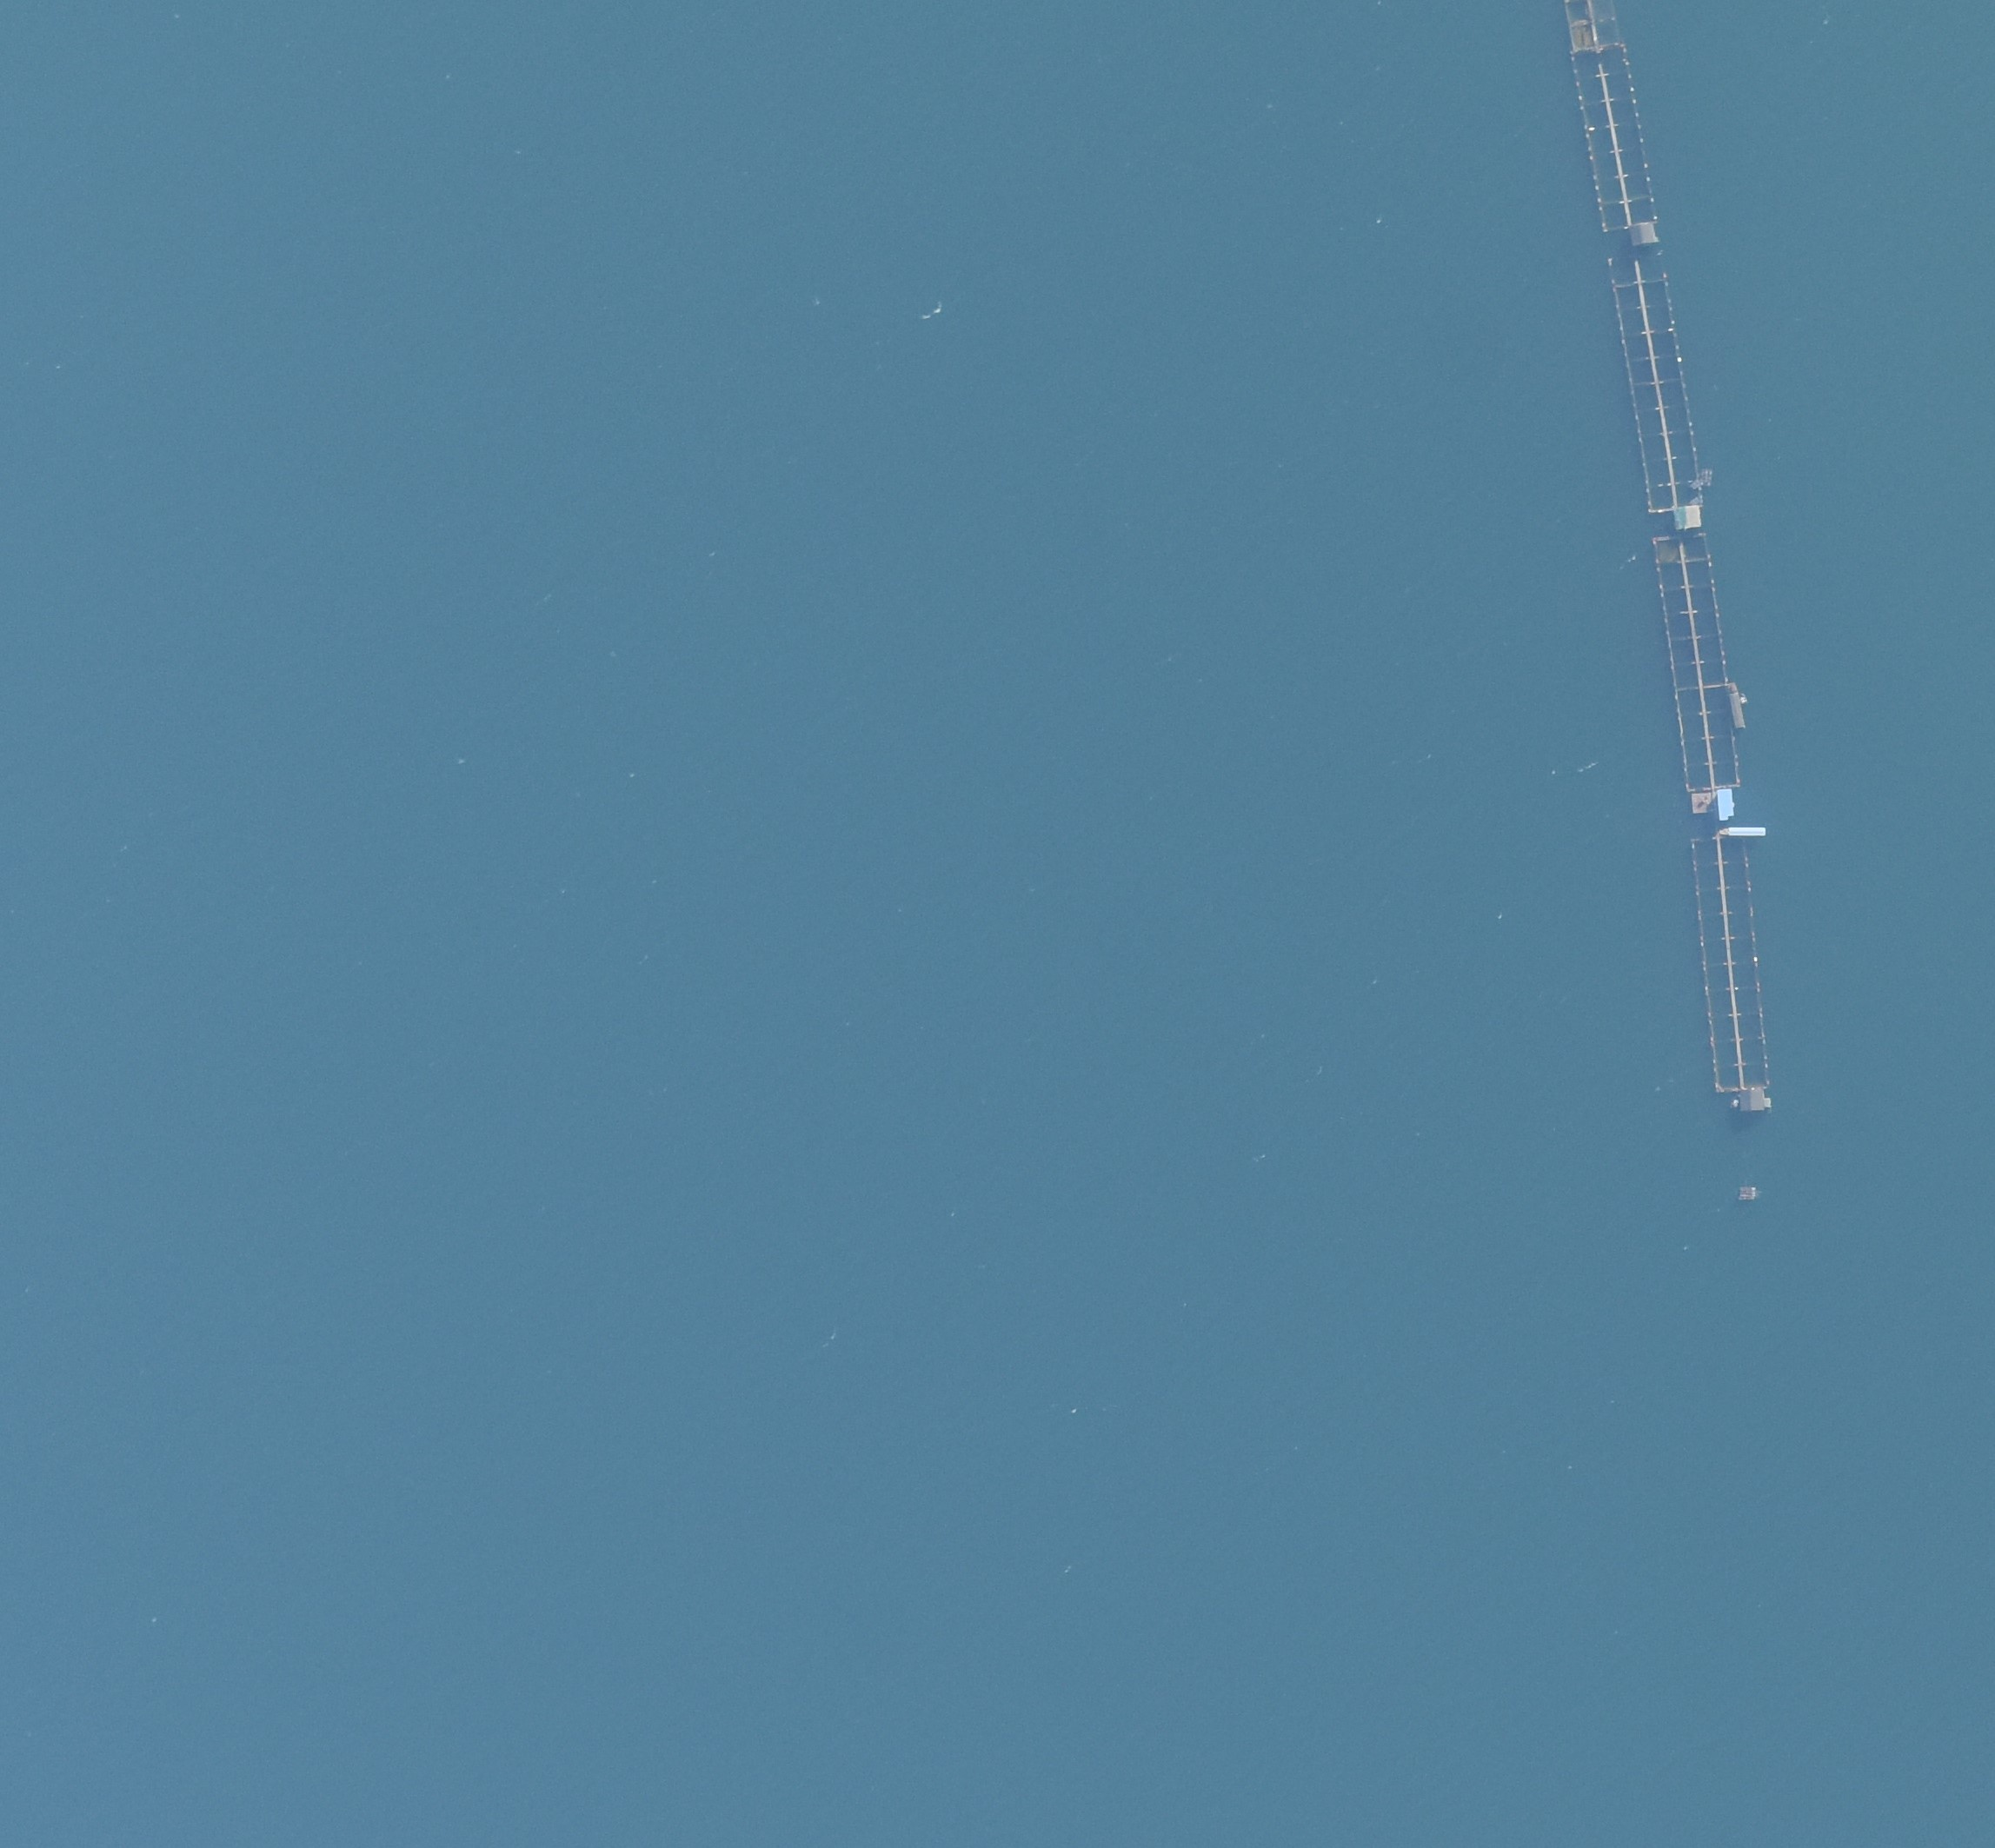cultivation-mesh-cage: (1608, 250, 1706, 514), (1653, 531, 1743, 791), (1563, 1, 1656, 235), (1692, 835, 1772, 1091)
prefabricated-house: (1728, 682, 1747, 729), (1672, 506, 1705, 529), (1628, 221, 1659, 245), (1716, 788, 1734, 823), (1739, 1091, 1766, 1111), (1691, 792, 1715, 813)
ship: (1719, 825, 1767, 838)
